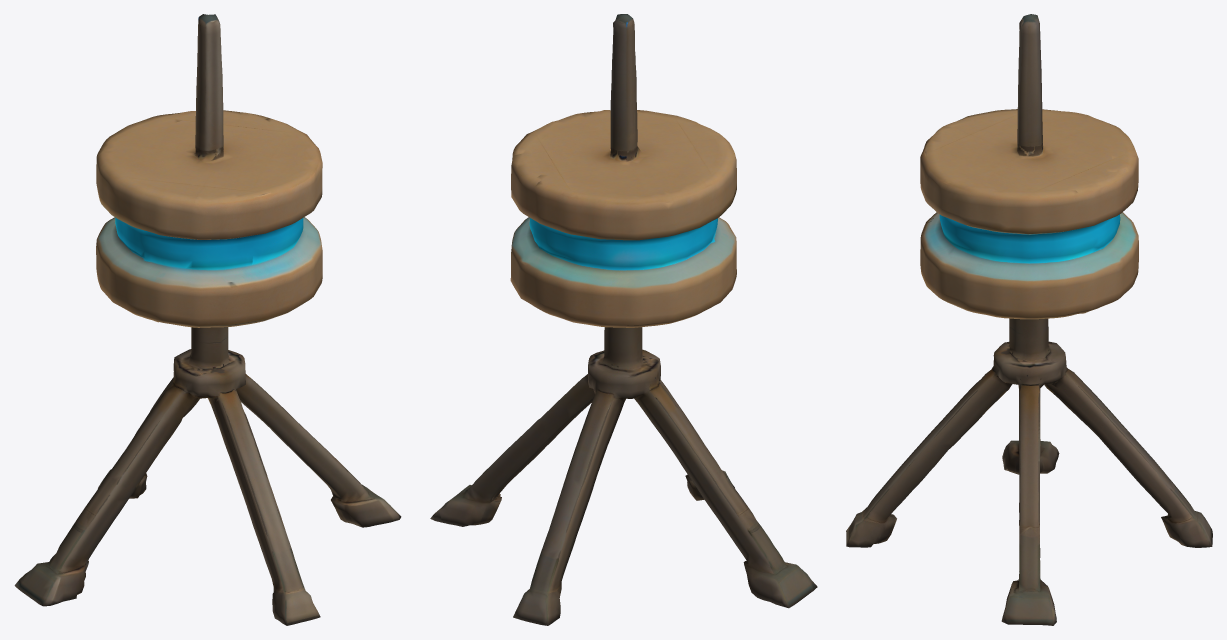
File: Holographic_projector.glb
The picture shows the model from 3 angles, left to right: view 1: azimuth 30°, elevation 25°; view 2: azimuth 150°, elevation 25°; view 3: azimuth 270°, elevation 25°; orthographic projection. The views are drawn at different scales.
Parts seen in each view (by area): view 1: Mesh_0; view 2: Mesh_0; view 3: Mesh_0.
Part boxes in pixels (box(x1,y1,x2,y2)): Mesh_0: box(14, 14, 401, 625); Mesh_0: box(430, 14, 817, 625); Mesh_0: box(846, 14, 1212, 625).
Size of the model in its own units: 0.4912 by 0.7 by 0.4429.
1 material, 1 textured.
